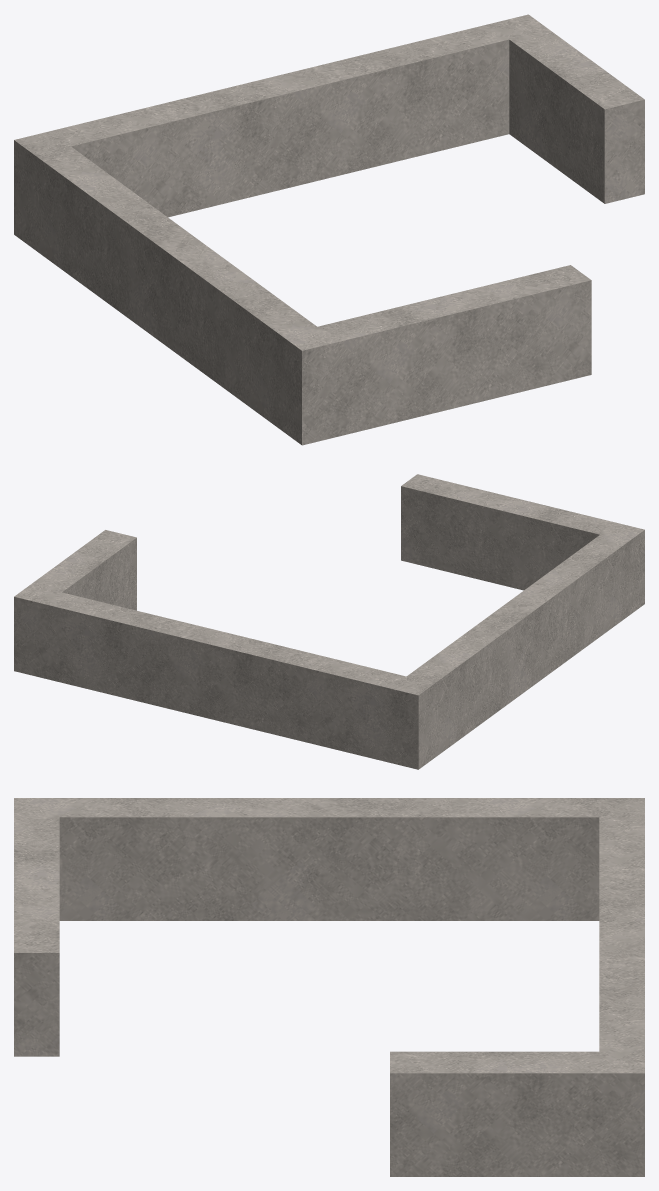
File: barrera_ex.fbx
The picture shows the model from 3 angles, top to bottom: view 1: azimuth 30°, elevation 25°; view 2: azimuth 150°, elevation 25°; view 3: azimuth 270°, elevation 25°; orthographic projection. The views are drawn at different scales.
Visible parts, largest first — view 1: barrera exterior; view 2: barrera exterior; view 3: barrera exterior.
Boxes of the visible parts, x1,y1,x2,y2 form: barrera exterior: (14,14,644,445); barrera exterior: (14,474,644,769); barrera exterior: (14,798,644,1176).
Bounding box in the file's own units: 25.61 × 4.5 × 24.83.
